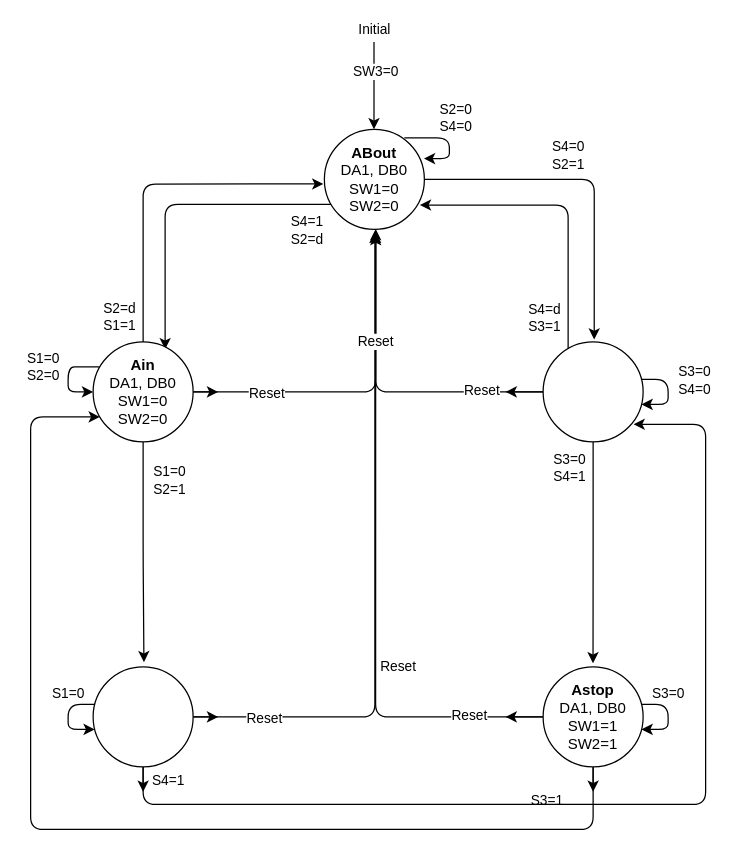
Image size: 738x861. Some labels were removed from this diagram. The centre of each missing label's shape, as x and y in pixels:
Bin DA1, DB0 SW1=1 SW2=1: [592,391]
Bstop DA1 SW1=0 SW2=0: [142,716]
